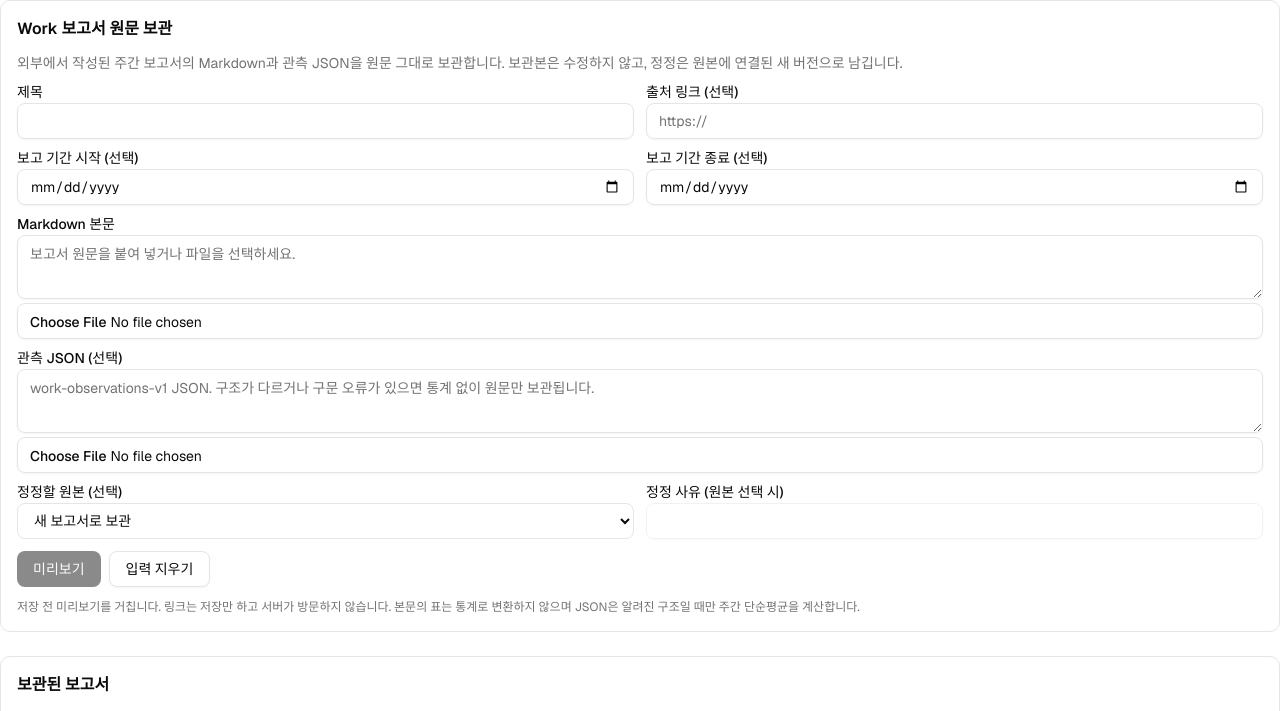
Test: blocks saving a duplicate and surfaces server errors
In the field labelled "제목": (326, 121) [17,103,634,139], type "중복"
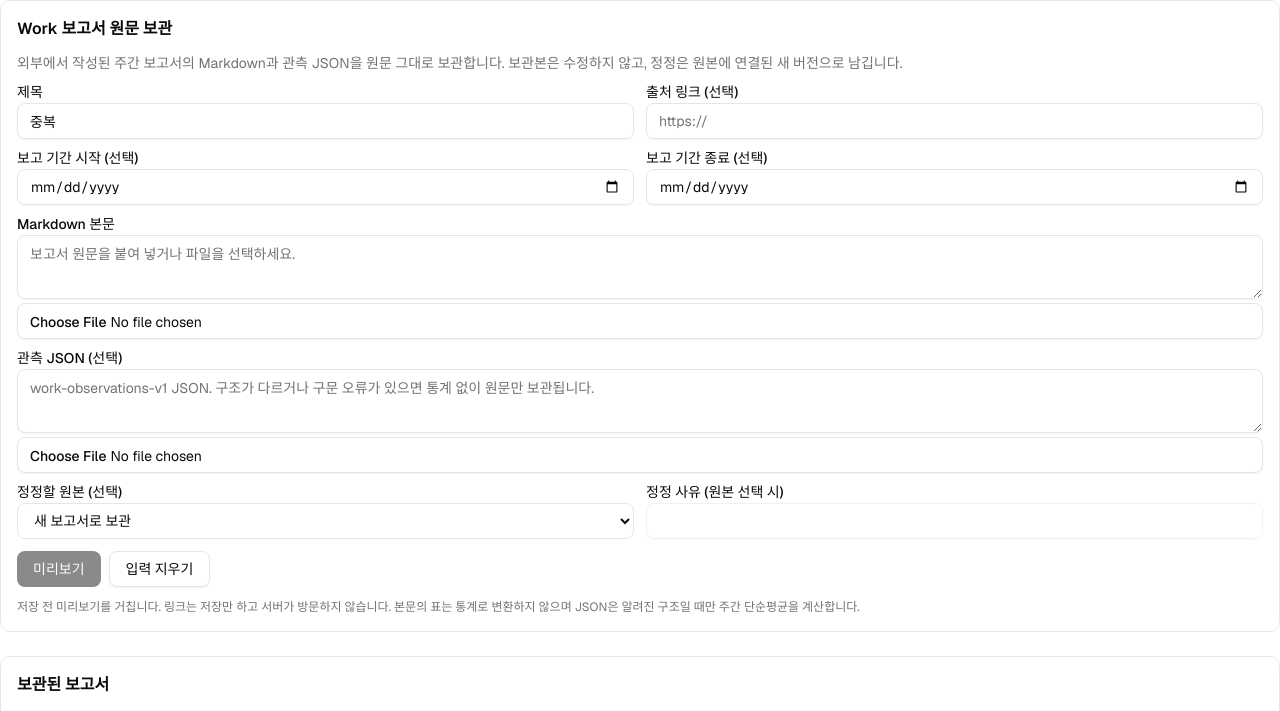
In the text box labelled "Markdown 본문": (640, 267) [17,235,1263,299], type "# 같은 본문"
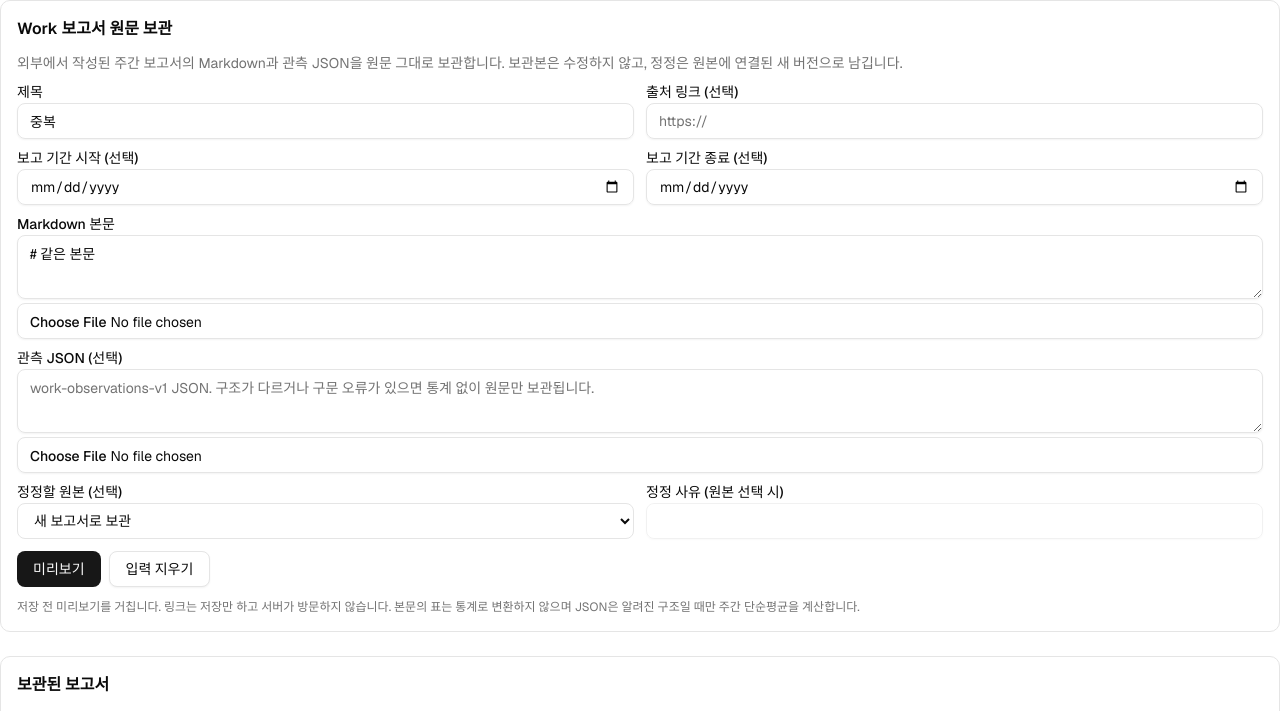
Click the button "미리보기": click(59, 569) [17,551,100,587]
(page scrolled)
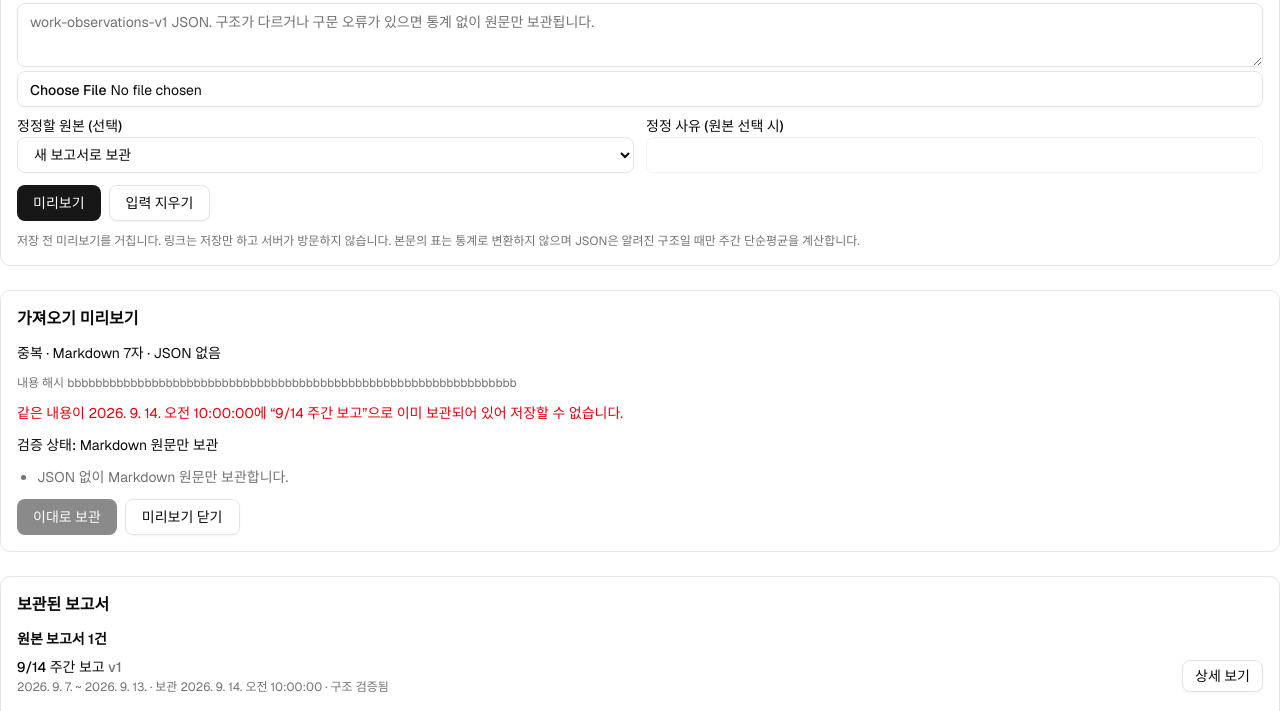
Result: the text "이미 보관되어 있어 저장할 수 없습니다" is shown at [362,404,623,422]
Result: the button "이대로 보관" is disabled at [17,499,117,535]
